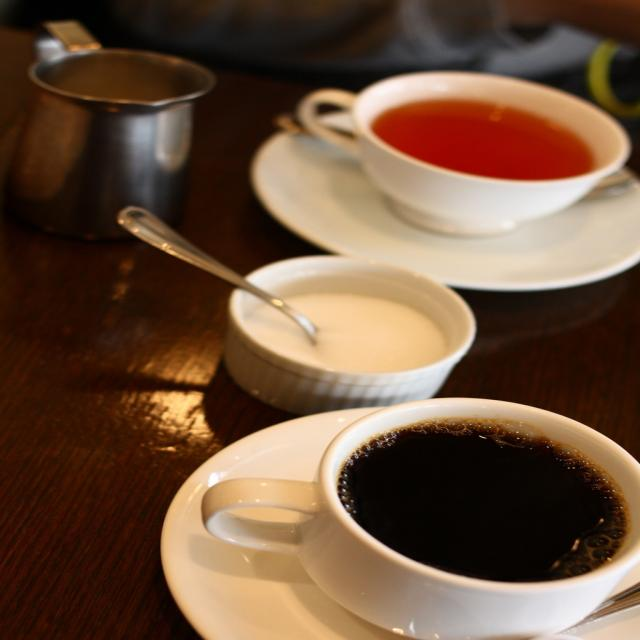Tea: (340, 418, 625, 584), (374, 95, 594, 177)
